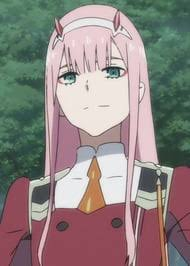zeroTwo: (45, 3, 152, 137)
